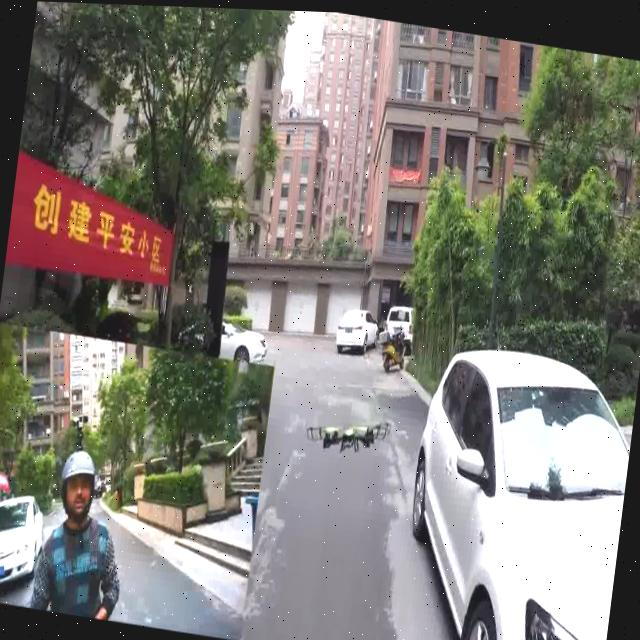drone: (302, 396, 394, 482)
